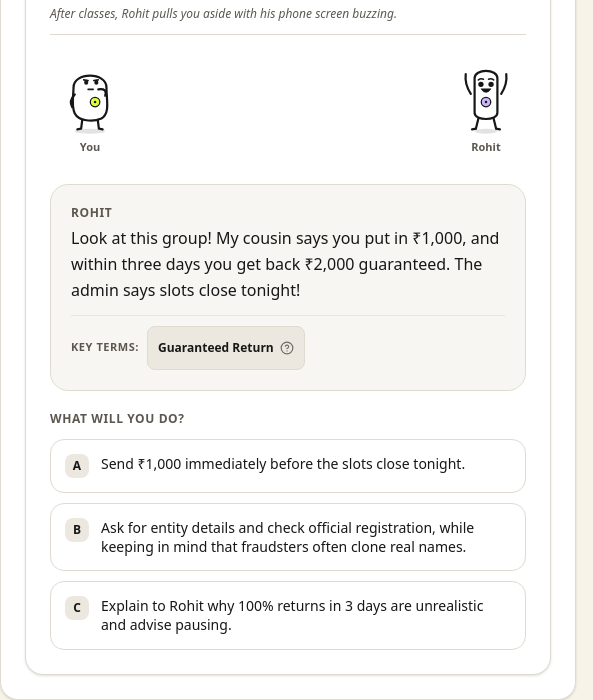
Test case: ui › TopicLesson orchestrator › embeds StoryChoices as a lesson step and advances upon completion
(page scrolled)
// Finish embedded story choice
Step 1. Click the button with test id "story-choice-choice-refuse-firmly" → (288, 615), box [50, 581, 526, 650]
(page scrolled)
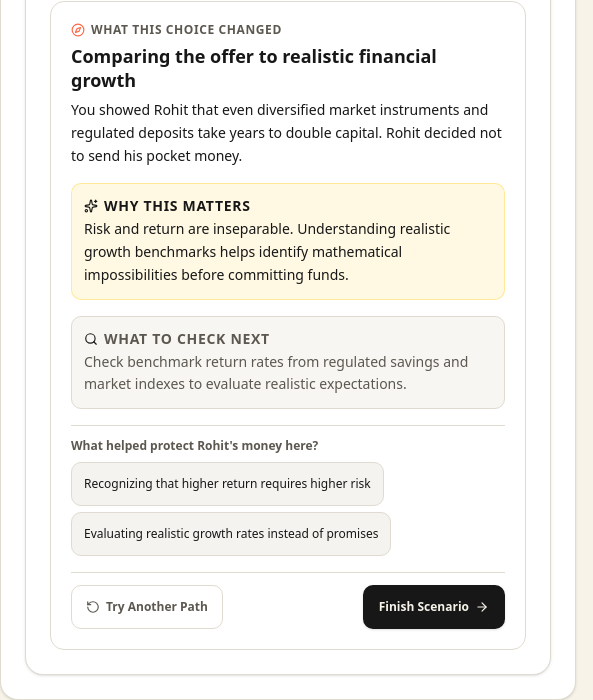
Step 2. Click the button with test id "story-continue-btn" → (434, 607), box [363, 585, 505, 629]
(page scrolled)
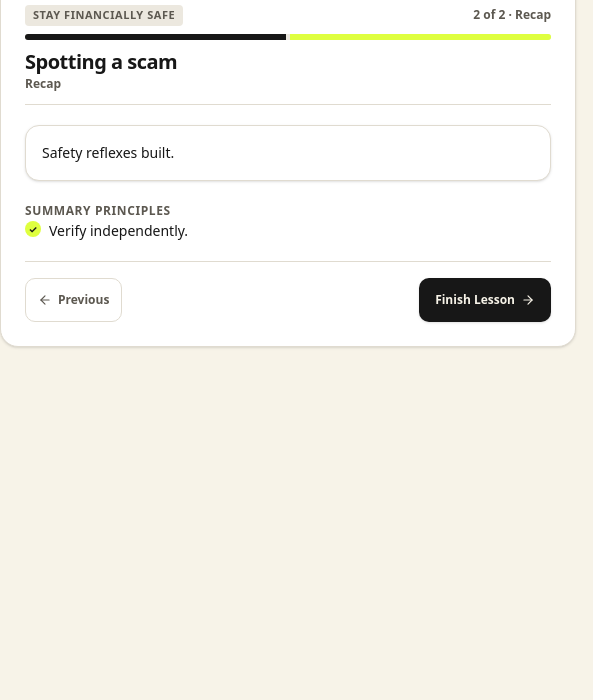
Check: the element with test id "lesson-step-recap" is shown, box [25, 124, 551, 241]
